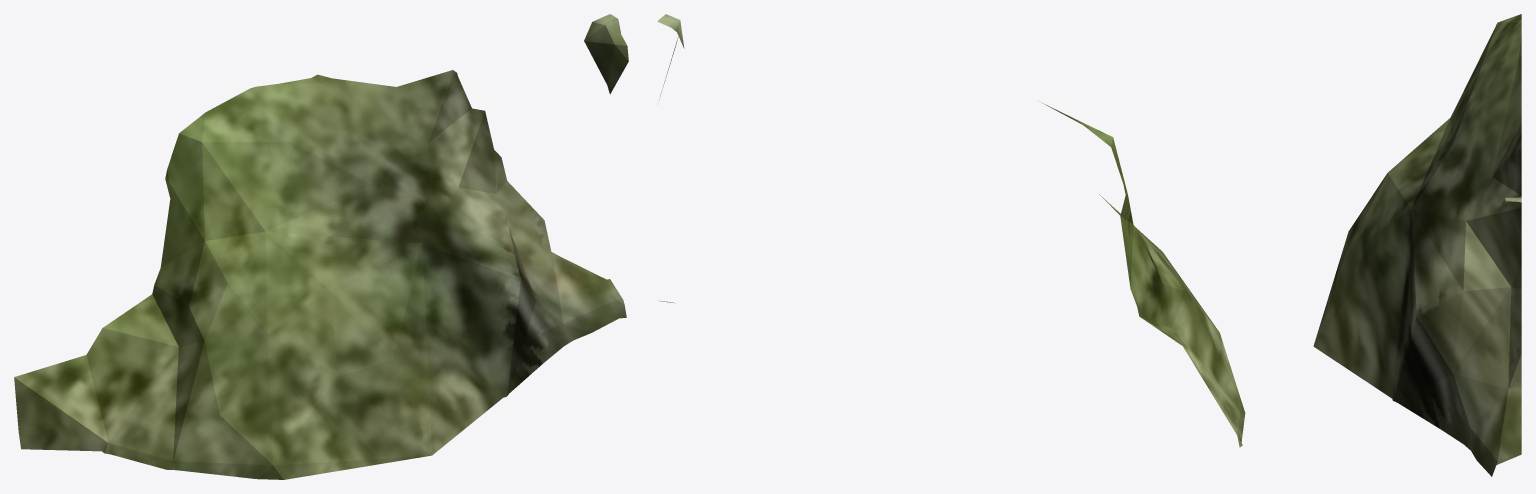
The picture shows the model from 3 angles, left to right: view 1: azimuth 30°, elevation 25°; view 2: azimuth 150°, elevation 25°; view 3: azimuth 270°, elevation 25°; orthographic projection. The views are drawn at different scales.
Bounding box in the file's own units: 2.64 × 1.29 × 0.8386.
Materials: 1 (1 with a texture image).
